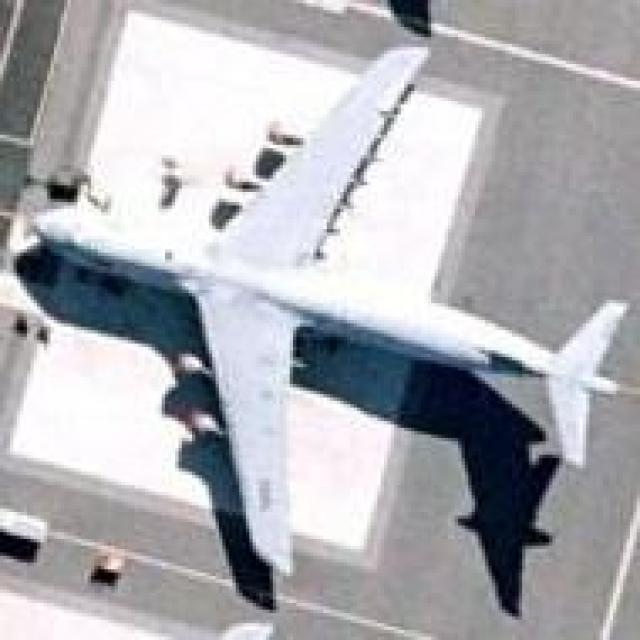C-5_TopDown: (15, 41, 628, 622)
